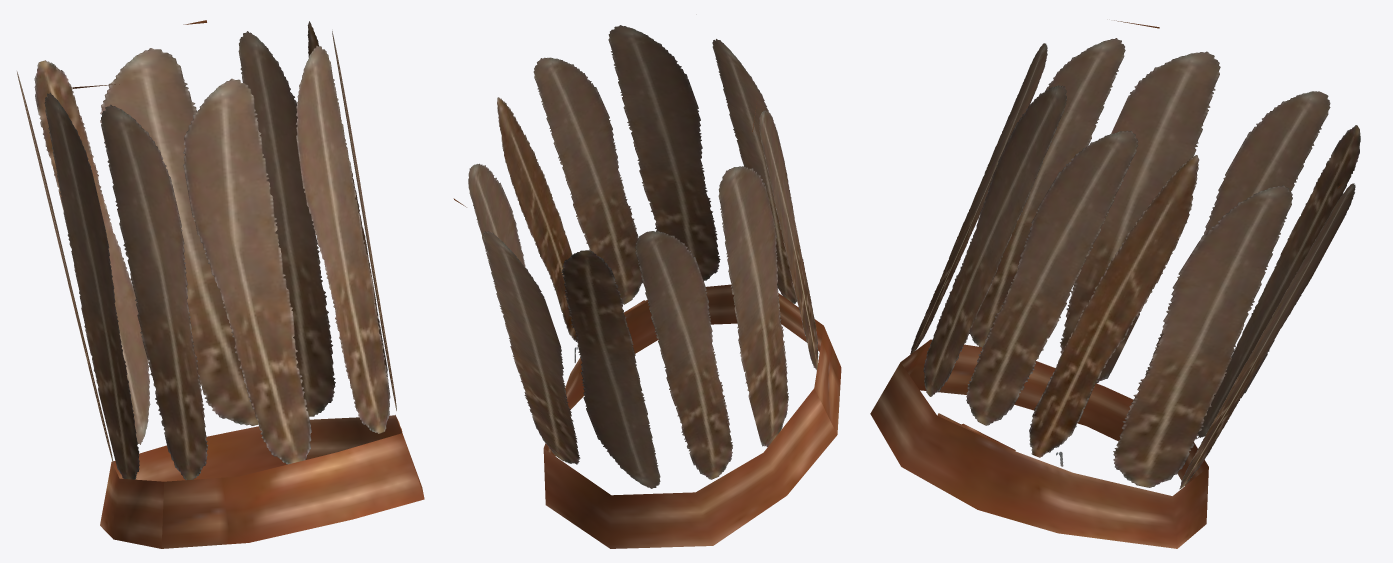
Rendered from xion_helmet_champion_axeman.dae.
3 views of the same model, side by side, from view 1: azimuth 30°, elevation 25°; view 2: azimuth 150°, elevation 25°; view 3: azimuth 270°, elevation 25° (orthographic). The views are drawn at different scales.
Parts seen in each view (by area): view 1: xion_helmet_axeman; view 2: xion_helmet_axeman; view 3: xion_helmet_axeman.
Part boxes in pixels (x1,y1,x2,y2): xion_helmet_axeman: [17, 20, 424, 548]; xion_helmet_axeman: [453, 25, 841, 548]; xion_helmet_axeman: [870, 20, 1360, 548].
Size of the model in its own units: 0.4418 by 0.7948 by 0.8346.
